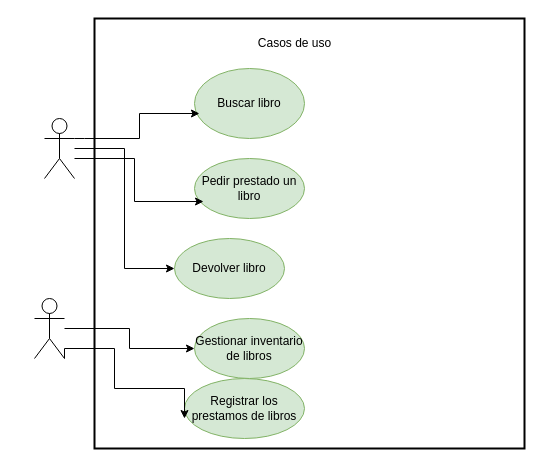
This 543x466 diagram has some shape labels left out. The centre of each missing label's shape, as x and y in pixels:
Bibliotecario: the point at 49,328
Usuarios: the point at 59,148
